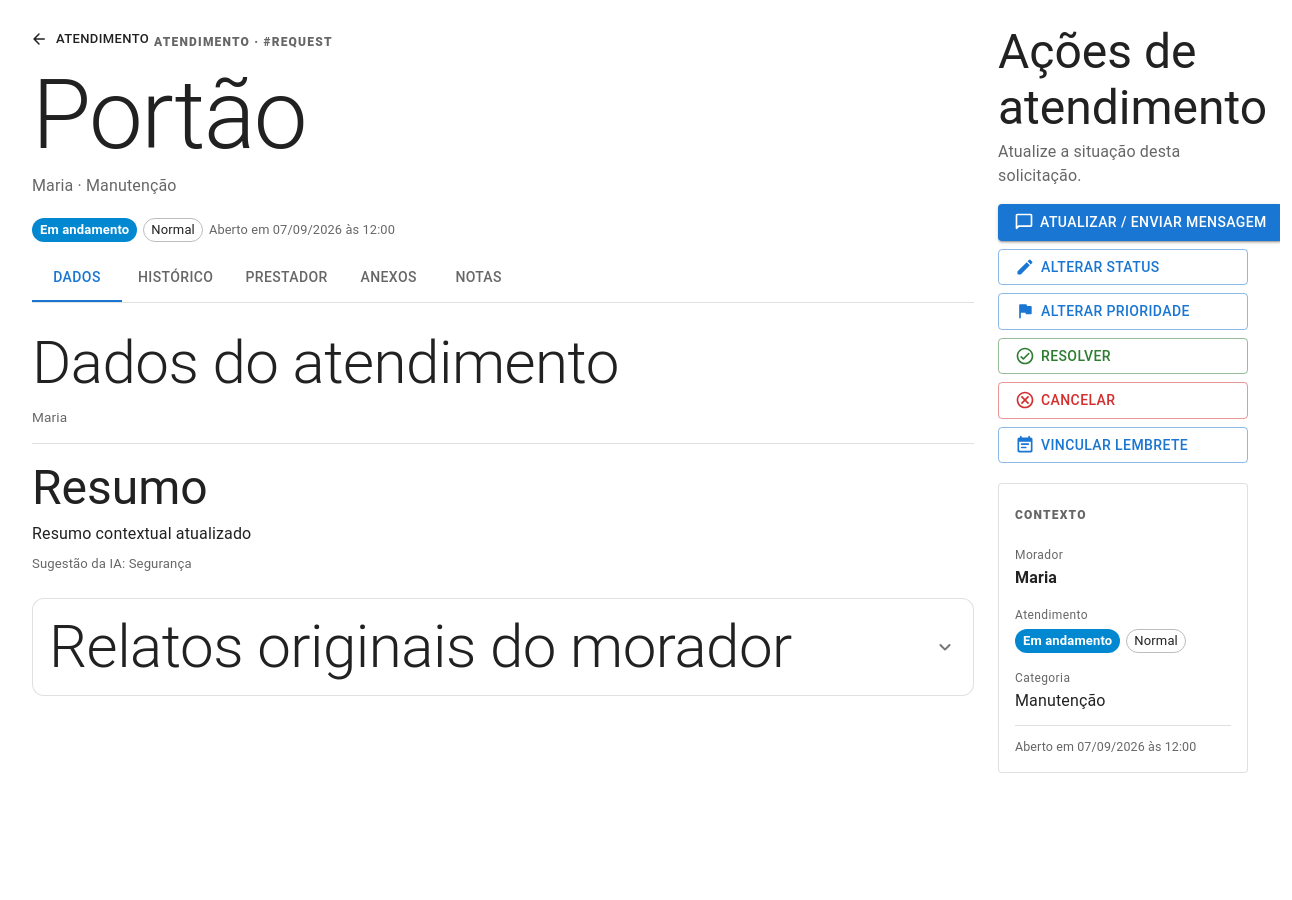
Test: RequestDetailsPage workspace › allows an Attendance-authorized SubManager to access notes
The width and height of the screenshot is (1292, 900).
What coordinates should you click on to do the following:
click the tab "Notas"
I would click on:
 (479, 278)
Its box is left=434, top=254, right=524, bottom=302.
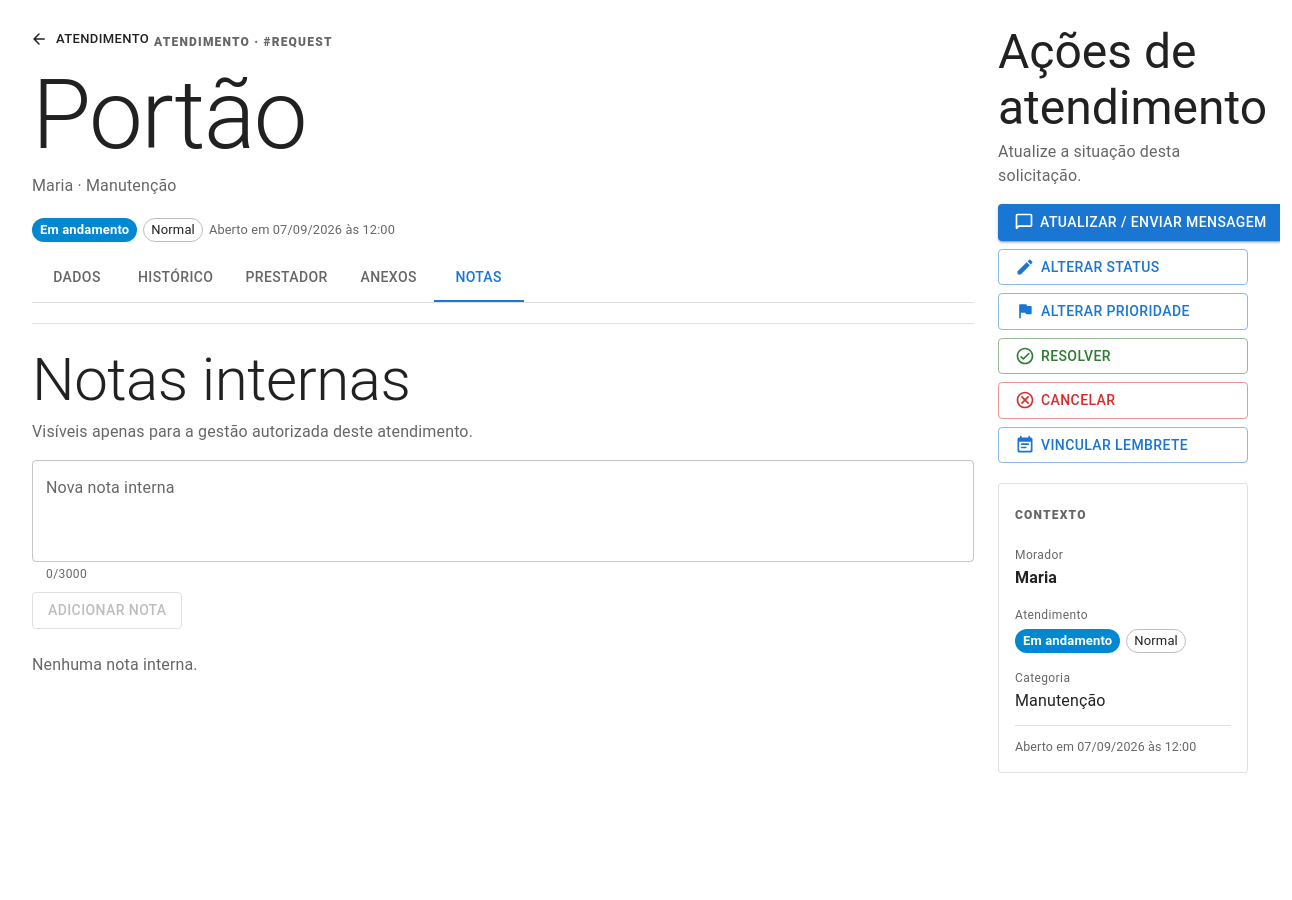
Expected: the heading "Notas internas" is shown, left=32, top=344, right=410, bottom=415
